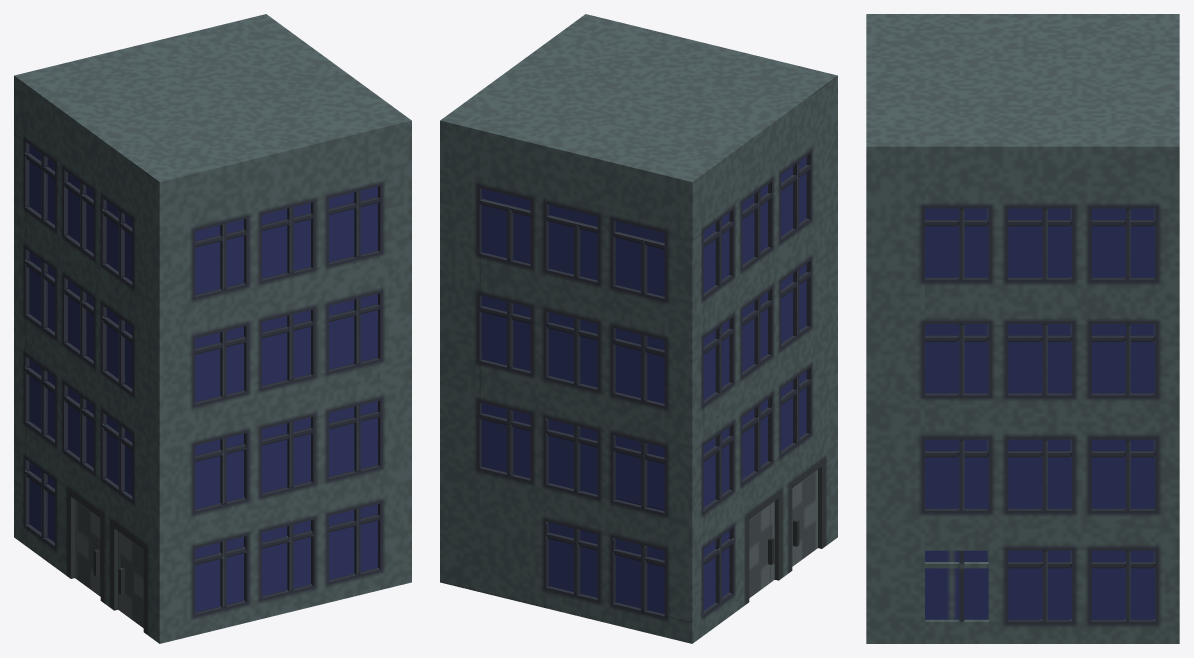
File: b_uni_med4.dae
3 views of the same model, side by side, from view 1: azimuth 30°, elevation 25°; view 2: azimuth 150°, elevation 25°; view 3: azimuth 270°, elevation 25° (orthographic). The views are drawn at different scales.
Parts seen in each view (by area): view 1: Content; view 2: Content; view 3: Content.
Part boxes in pixels (x1,y1,x2,y2): Content: [14, 14, 411, 643]; Content: [440, 14, 837, 643]; Content: [866, 14, 1179, 643].
Bounding box in the file's own units: 64 × 112 × 64.
1 material, 1 textured.
